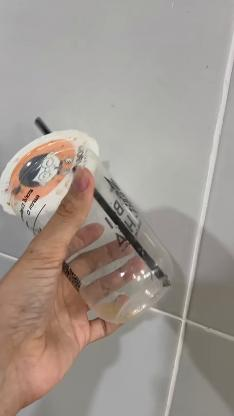Plastic Cup: (0, 127, 180, 326)
